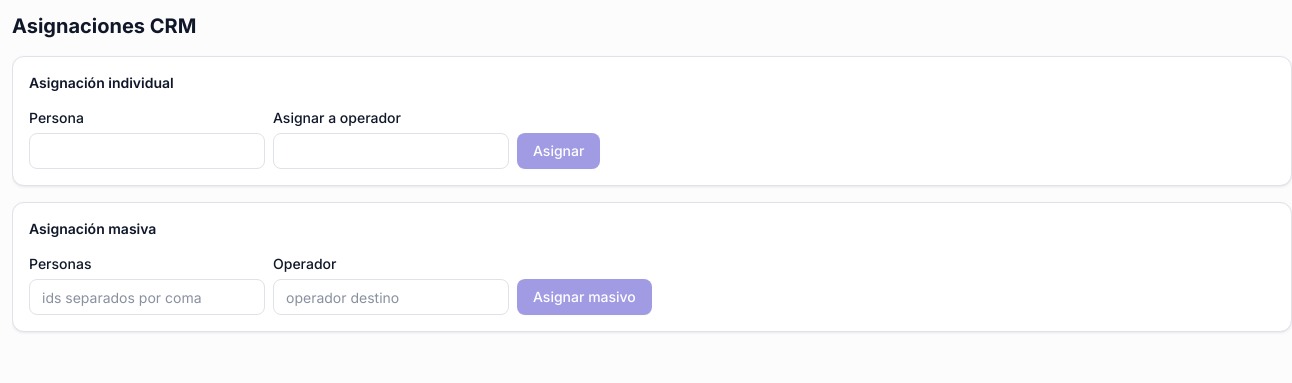
CRM Asignaciones (admin) › permite asignación masiva
Type "user-operador" into the field labelled "Operador". click: x=391, y=297
box: left=273, top=279, right=509, bottom=315
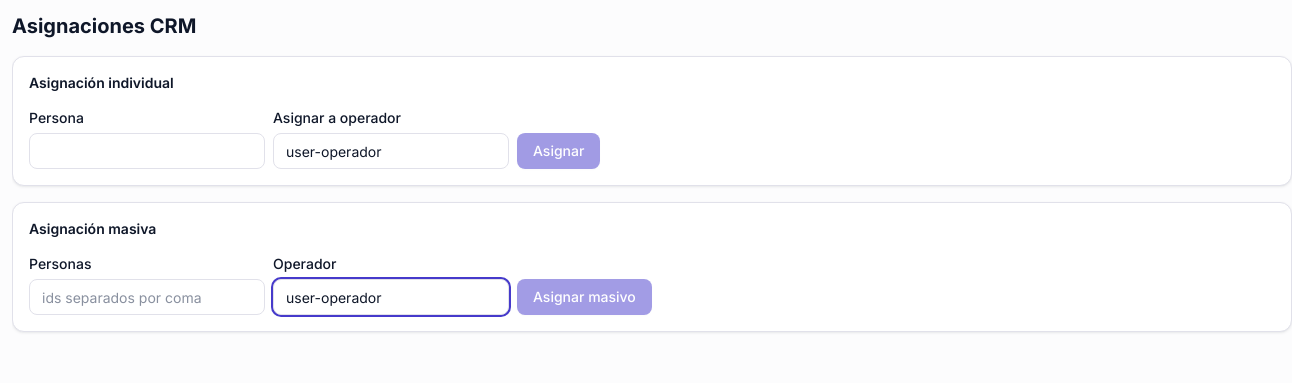
Type "persona-1,persona-2" into the field labelled "Personas". click: x=147, y=297
box: left=29, top=279, right=265, bottom=315
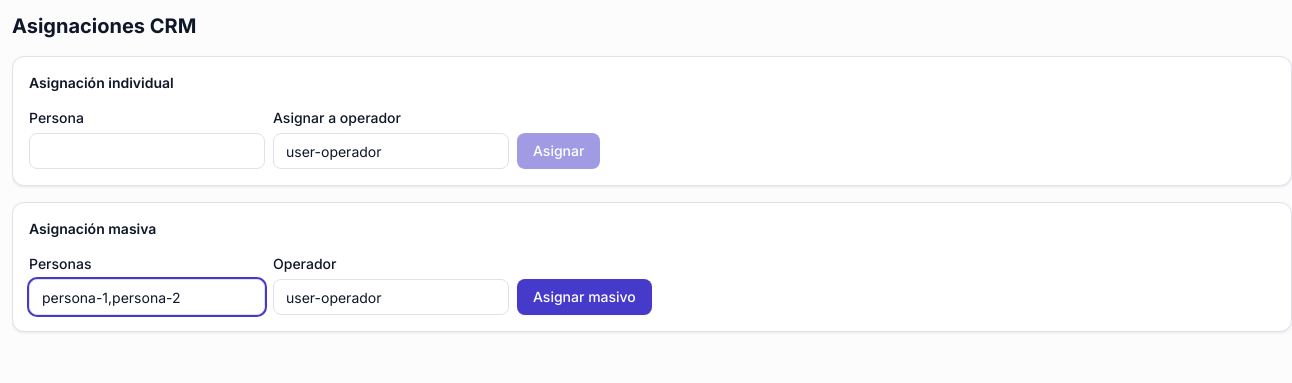
Click the button "Asignar masivo". click: x=584, y=297
box: left=517, top=279, right=652, bottom=315
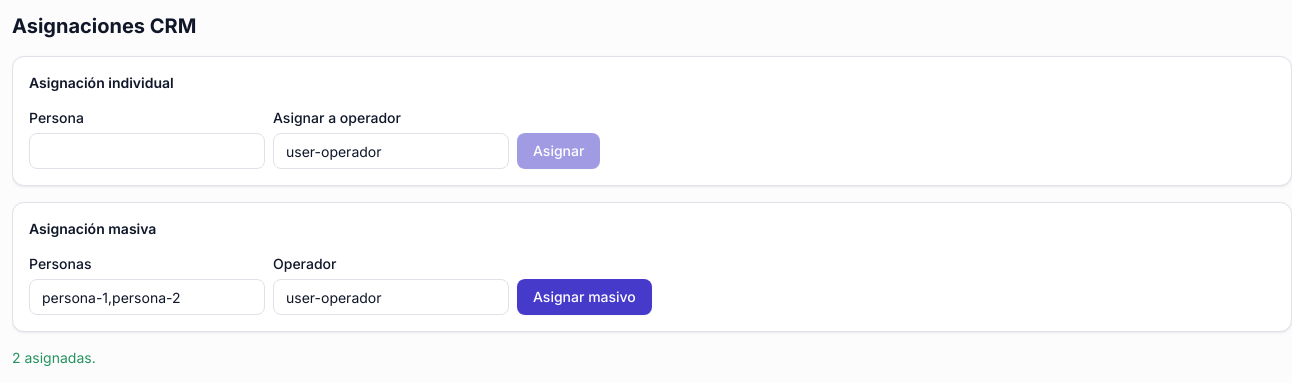
Expected: the text "2 asignadas." is shown, left=12, top=349, right=96, bottom=366
